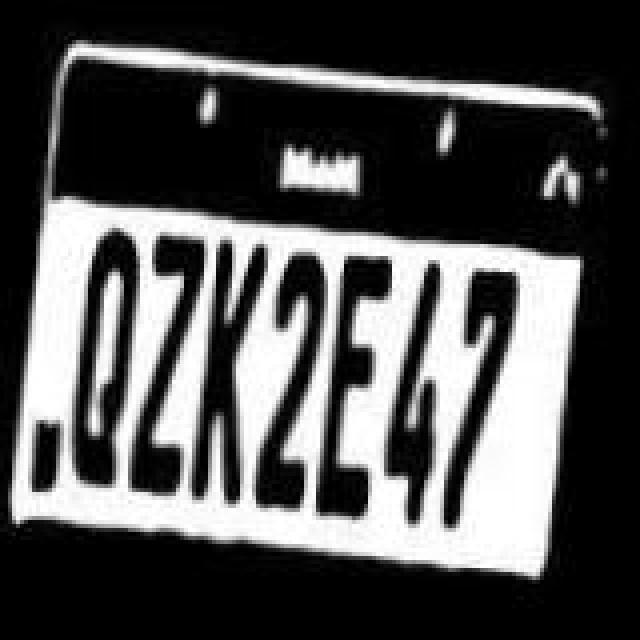2: (252, 234, 328, 522)
4: (378, 256, 450, 540)
7: (434, 250, 530, 542)
E: (310, 240, 398, 528)
K: (188, 238, 272, 506)
Q: (66, 220, 138, 500)
Z: (126, 218, 206, 498)
